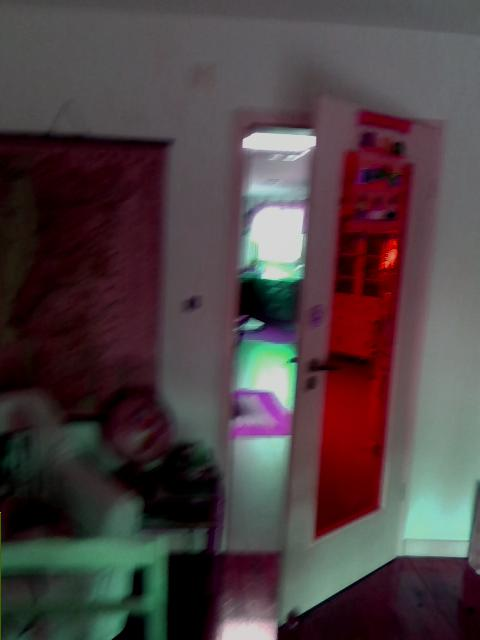semi_door: (211, 91, 449, 629)
